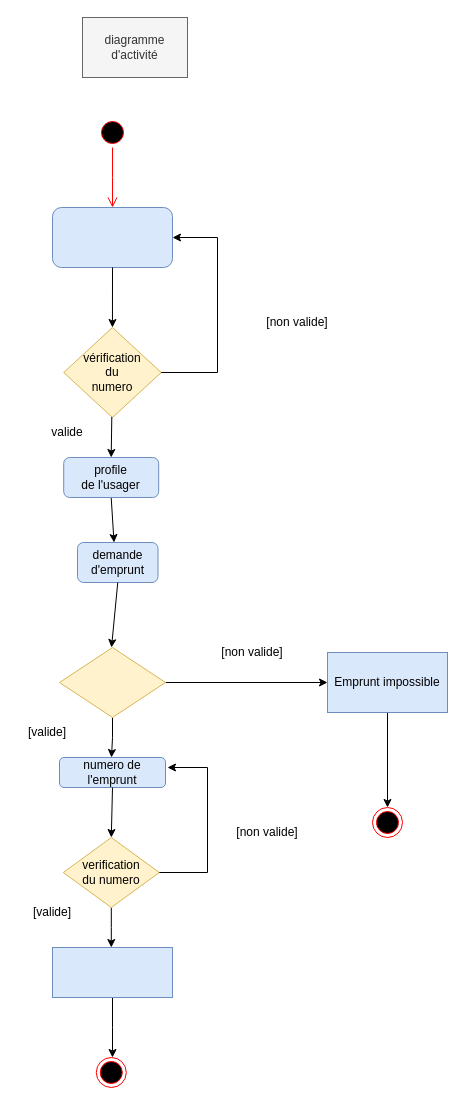
This 465x1105 diagram has some shape labels left out. Here are the shapes that lost their labels. From the top down, the centre of each, then its label:
At point 112,237: "identification de l'usager".
At point 112,682: "not null".
At point 112,972: "Ajout de l'emprunt".
